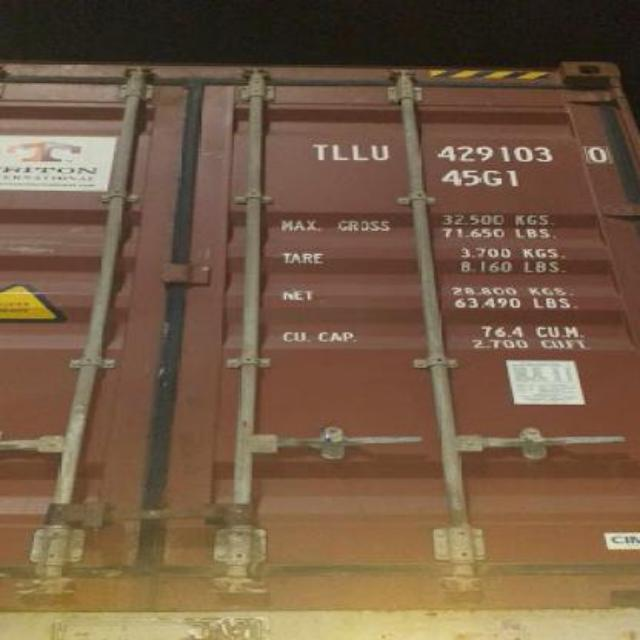0: (584, 142, 616, 166), (512, 140, 534, 164)
1: (498, 140, 514, 163)
2: (456, 141, 474, 165)
3: (534, 139, 556, 165)
4: (436, 143, 458, 161)
9: (474, 138, 494, 164)
L: (350, 138, 370, 164), (330, 139, 348, 165)
T: (306, 140, 330, 164)
U: (370, 139, 390, 165)
